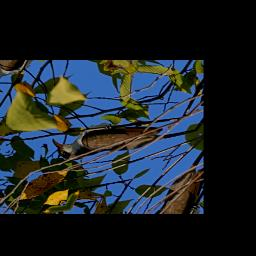Cuckoo: (36, 85, 168, 181)
